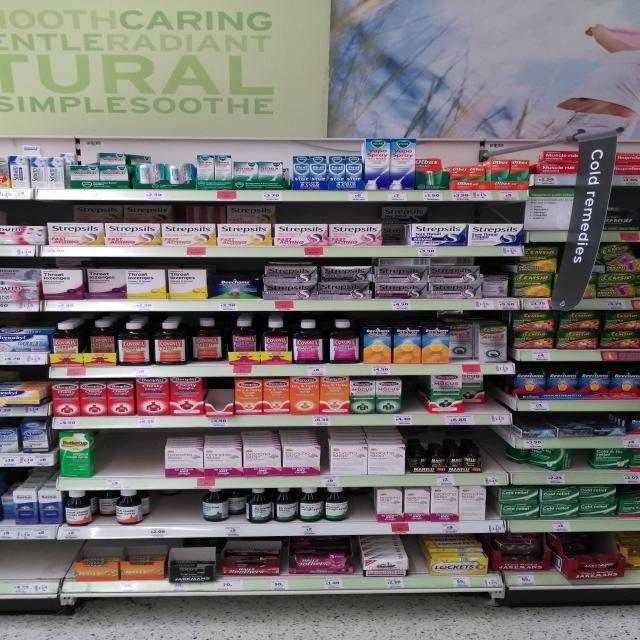unorganised: (71, 203, 172, 222), (57, 430, 95, 479), (189, 317, 226, 364), (571, 552, 625, 584), (513, 447, 578, 472), (204, 489, 247, 524), (85, 268, 126, 297), (375, 257, 478, 268), (226, 204, 278, 225), (320, 263, 376, 281), (448, 324, 474, 361), (95, 491, 118, 524), (463, 375, 485, 407)
